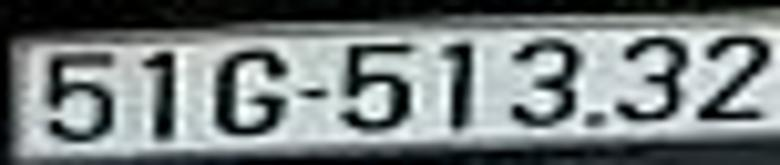-: (298, 83, 332, 106)
.: (585, 104, 610, 131)
1: (139, 46, 179, 145), (441, 36, 478, 133)
2: (700, 34, 768, 122)
3: (618, 32, 689, 128), (511, 34, 577, 126)
5: (46, 48, 118, 145), (344, 39, 414, 136)
G: (214, 46, 291, 137)
